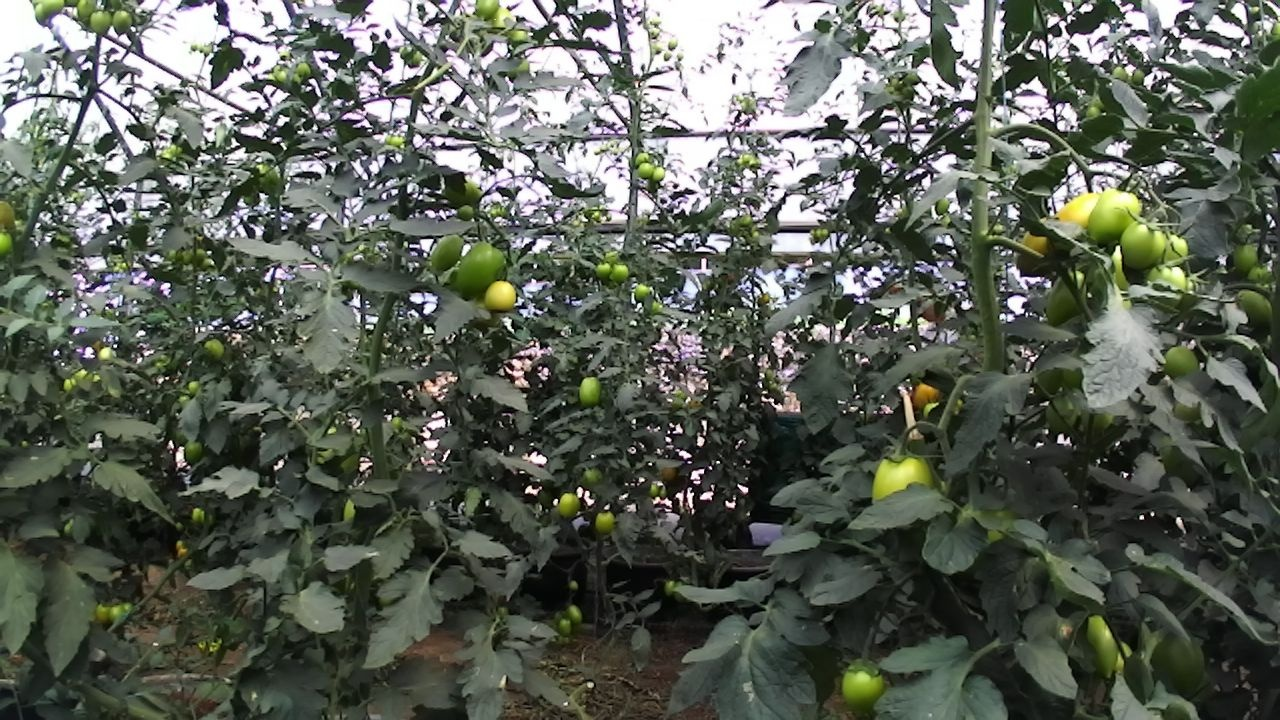tomato: (858, 432, 956, 552), (1041, 166, 1135, 250), (1132, 617, 1216, 709), (1002, 205, 1091, 286), (1067, 599, 1133, 695), (1080, 175, 1151, 256), (444, 230, 516, 308), (825, 647, 903, 716), (1114, 207, 1178, 281), (1038, 258, 1098, 335), (1139, 256, 1194, 322), (1152, 332, 1212, 392), (899, 363, 959, 421), (1226, 279, 1280, 343), (478, 267, 525, 321), (423, 224, 472, 275), (1041, 383, 1084, 441), (1223, 234, 1269, 280), (569, 369, 613, 414), (549, 482, 592, 527), (247, 157, 287, 198), (487, 0, 524, 43), (441, 173, 486, 208), (588, 502, 625, 542), (395, 38, 431, 75), (574, 463, 611, 497), (178, 434, 210, 470), (108, 3, 136, 44), (86, 6, 117, 43), (198, 332, 231, 366), (27, 0, 60, 30), (468, 0, 503, 26), (1080, 95, 1109, 125), (606, 257, 635, 287), (928, 189, 956, 220), (69, 0, 104, 24), (559, 598, 588, 626), (552, 612, 579, 641), (452, 197, 479, 226), (89, 598, 115, 628), (105, 598, 132, 626), (92, 341, 120, 367), (1127, 61, 1151, 91), (36, 0, 68, 22), (628, 279, 655, 305), (1107, 61, 1132, 88), (634, 158, 660, 183), (182, 375, 206, 399), (630, 147, 655, 170), (592, 255, 613, 282), (385, 128, 408, 152), (647, 162, 669, 187), (188, 501, 209, 526), (660, 574, 679, 599), (295, 58, 315, 80), (565, 574, 585, 595), (644, 479, 661, 500)
